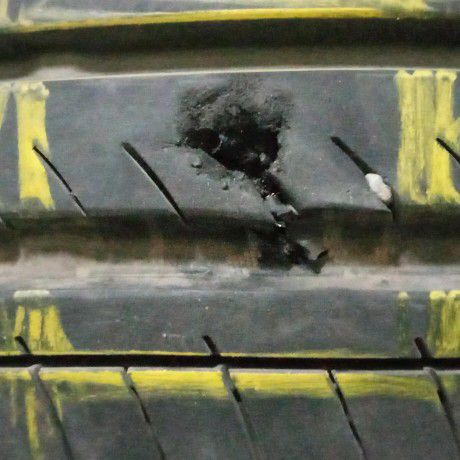tr: (164, 87, 301, 221)
